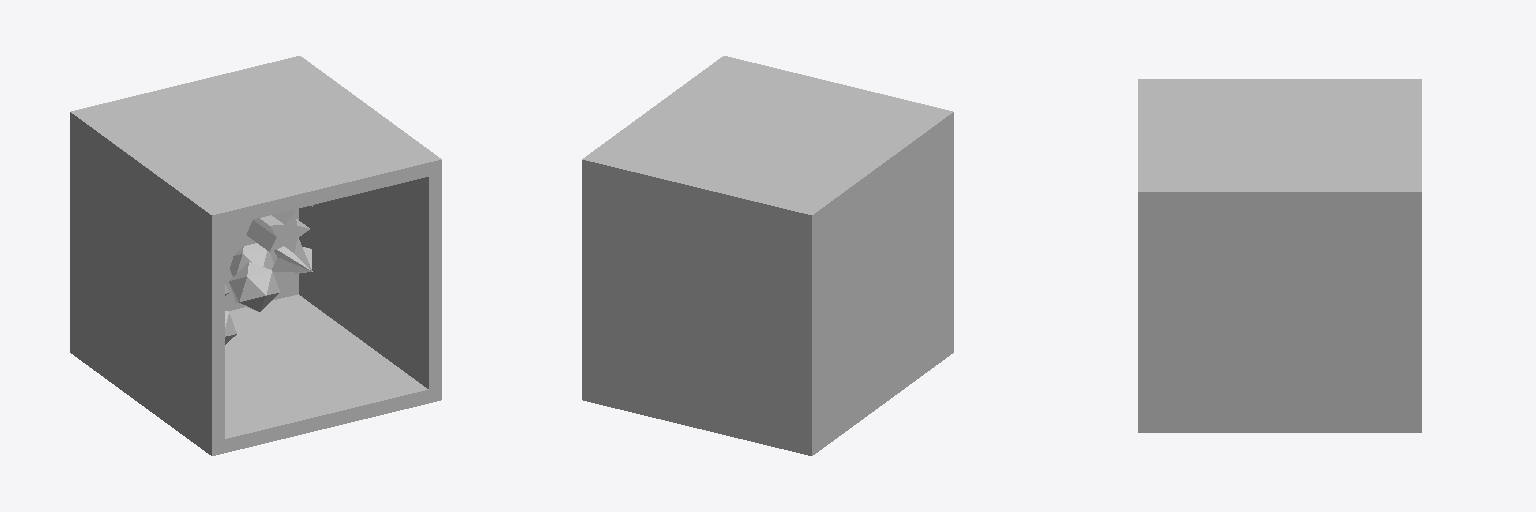
The model's file is presentbox.obj.
The picture shows the model from 3 angles: view 1: azimuth 30°, elevation 25°; view 2: azimuth 150°, elevation 25°; view 3: azimuth 270°, elevation 25°; orthographic projection.
Visible parts, largest first — view 1: obj_0; view 2: obj_0; view 3: obj_0.
Boxes of the visible parts, x1=… form: obj_0: x1=70, y1=56, x2=441, y2=455; obj_0: x1=582, y1=56, x2=953, y2=455; obj_0: x1=1138, y1=79, x2=1421, y2=432.
Bounding box in the file's own units: 28.09 × 28.09 × 30.